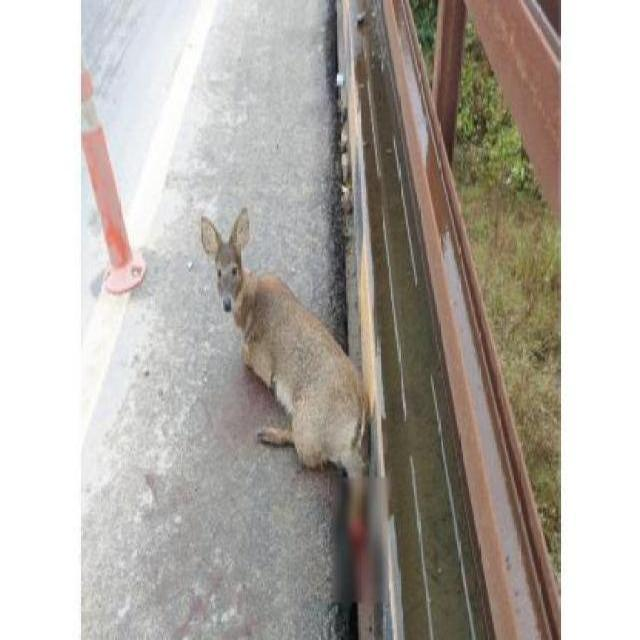deer: (196, 205, 370, 480)
